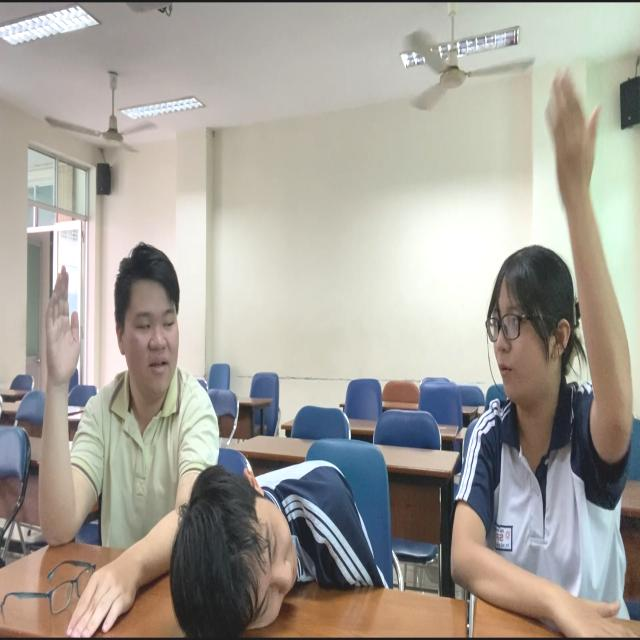raise_hand: (447, 63, 640, 635), (22, 236, 220, 640)
sleep: (172, 450, 394, 640)
